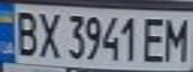1: (118, 14, 142, 63)
3: (63, 11, 84, 61)
4: (100, 12, 121, 62)
9: (81, 12, 103, 61)
B: (9, 7, 42, 57)
E: (139, 15, 169, 63)
M: (160, 14, 193, 63)
X: (36, 8, 63, 59)
